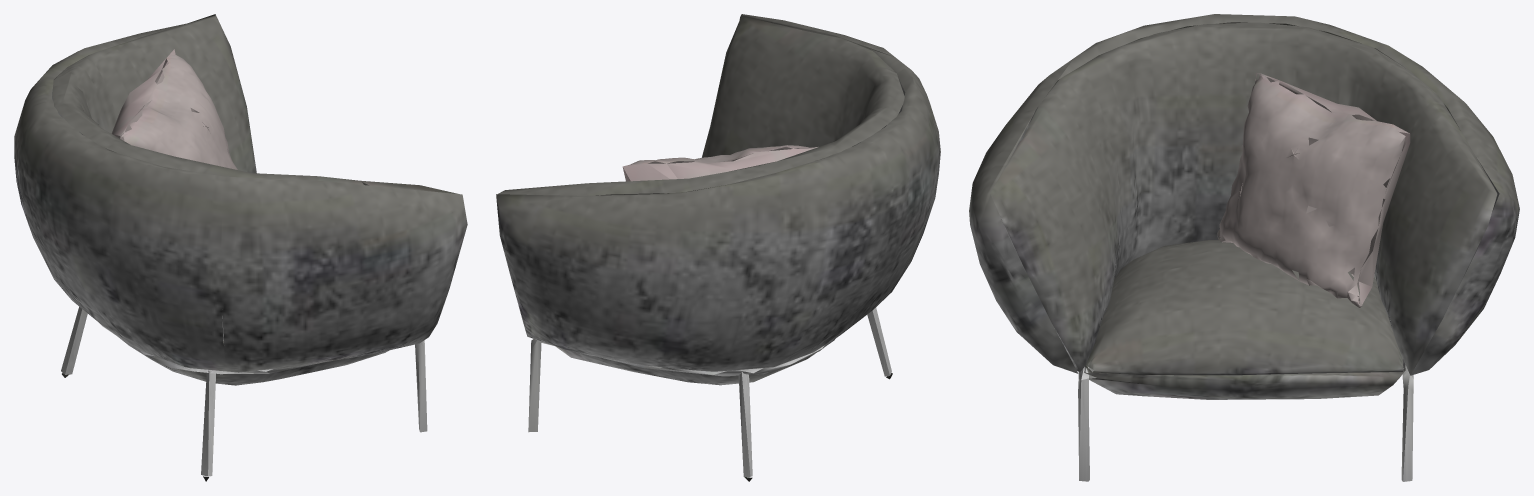
File: S_Sofa0019.obj
The picture shows the model from 3 angles, left to right: view 1: azimuth 30°, elevation 25°; view 2: azimuth 150°, elevation 25°; view 3: azimuth 270°, elevation 25°; orthographic projection. The views are drawn at different scales.
Size of the model in its own units: 0.712 by 0.699 by 1.06.
1 material, 1 textured.
